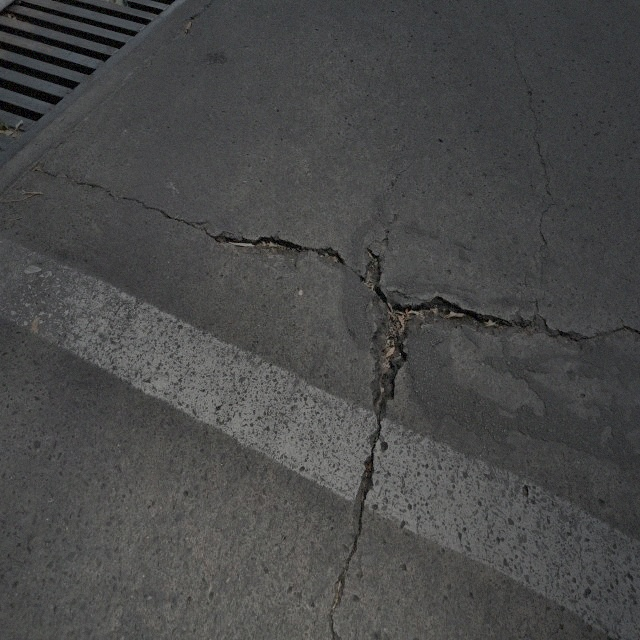pothole: (371, 299, 413, 442), (419, 291, 510, 337), (254, 228, 302, 270), (361, 242, 381, 294), (319, 240, 340, 267)
